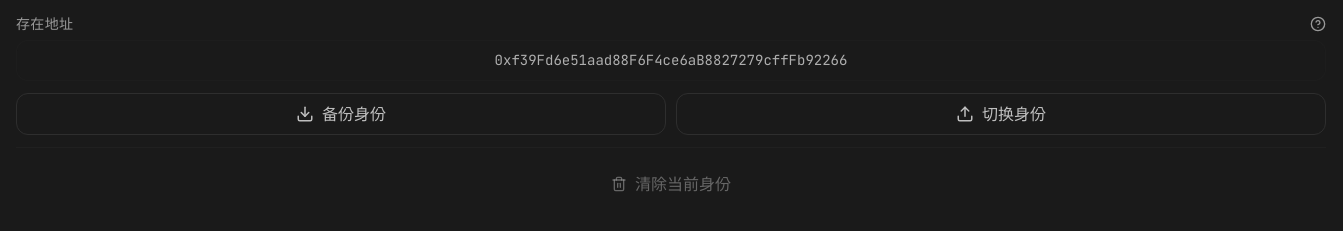
Scenario: IdentityPanel › Reset Functionality › should display warning message and two-step confirmation buttons
Expected: the text "清除当前身份" is shown, [635,172,731,196]
Click the button "清除当前身份": [671, 184] box [16,164,1326,204]
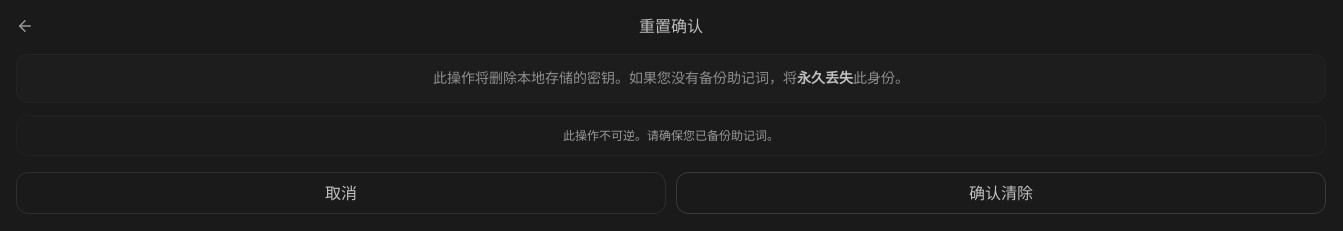
Expected: the text "永久丢失" is shown, [797,69,853,86]
Expected: the text "取消" is shown, [325,181,357,205]
Expected: the text "确认清除" is shown, [969,181,1033,205]
